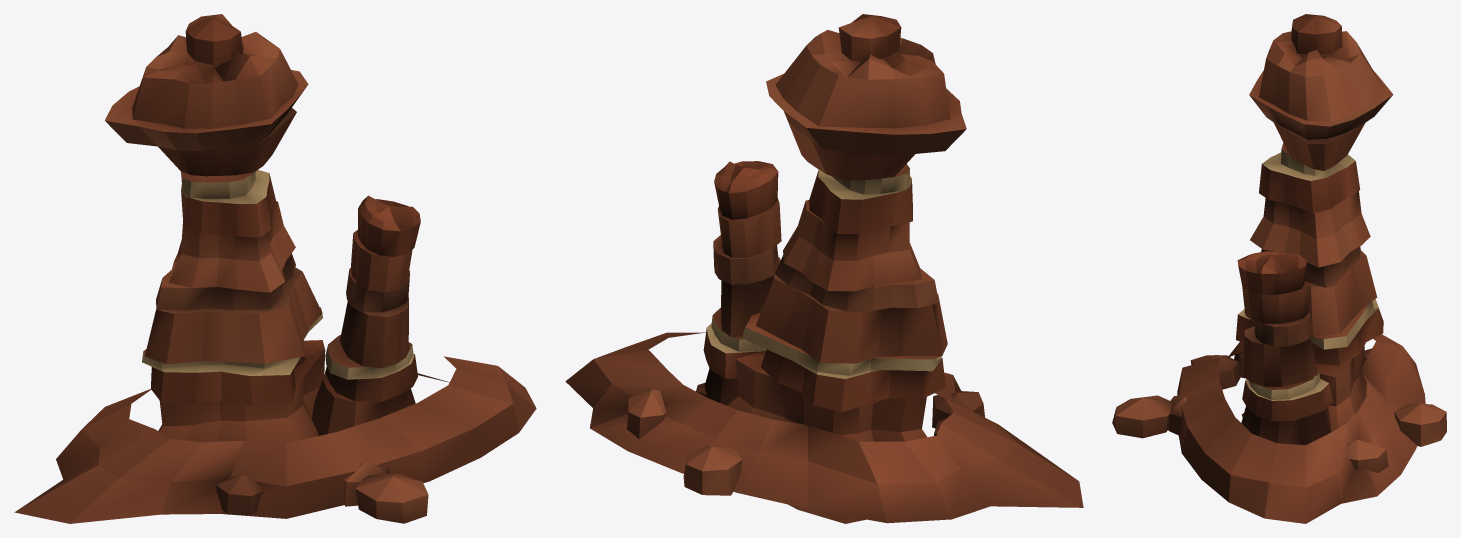
File: hoodoo_b.glb
3 renders of one model, left to right at view 1: azimuth 30°, elevation 25°; view 2: azimuth 150°, elevation 25°; view 3: azimuth 270°, elevation 25°, orthographic. The views are drawn at different scales.
Parts seen in each view (by area): view 1: rock_red, dirt_red, sand; view 2: rock_red, dirt_red, sand; view 3: rock_red, dirt_red, sand.
Boxes of the visible parts, x1,y1,x2,y2 form: rock_red: [14, 14, 536, 523]; dirt_red: [105, 87, 409, 317]; sand: [142, 170, 414, 379]; rock_red: [565, 14, 1083, 523]; dirt_red: [713, 101, 966, 311]; sand: [707, 168, 942, 378]; rock_red: [1112, 14, 1446, 523]; dirt_red: [1244, 95, 1392, 346]; sand: [1238, 149, 1378, 400].
Size of what is drawn, in the model's own units: 36.99 by 31.31 by 24.35.
